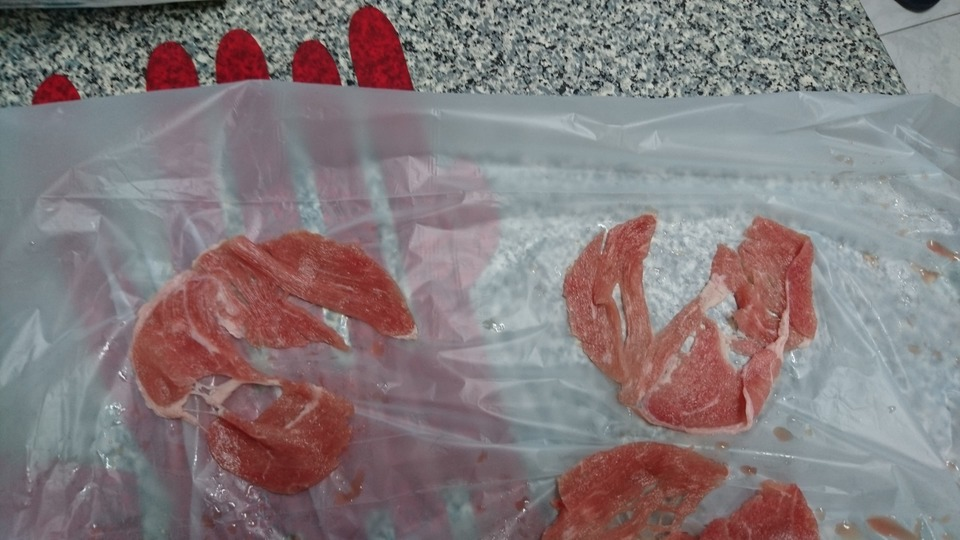restructured meat: (139, 205, 403, 499), (556, 200, 812, 424), (526, 446, 840, 539)
